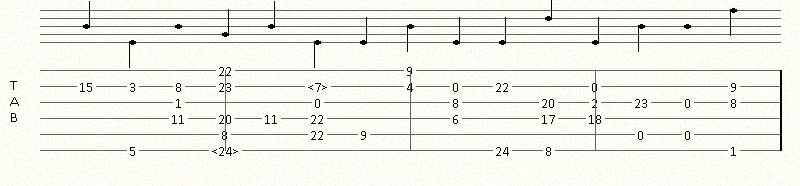0: (314, 96, 325, 109), (452, 80, 463, 93), (591, 80, 602, 93), (637, 128, 648, 141), (684, 128, 695, 141), (684, 96, 695, 109)
1: (175, 96, 186, 109), (730, 144, 741, 157)
11: (171, 112, 189, 125), (264, 112, 282, 125)
15: (79, 80, 97, 93)
17: (541, 112, 559, 125)
18: (588, 112, 606, 125)
2: (591, 96, 602, 109)
20: (218, 112, 236, 125), (541, 96, 559, 109)
22: (218, 64, 236, 77), (310, 128, 328, 141), (310, 112, 328, 125), (495, 80, 513, 93)
23: (218, 80, 236, 93), (634, 96, 652, 109)
24: (495, 144, 513, 157)
3: (129, 80, 140, 93)
4: (406, 80, 417, 93)
5: (129, 144, 140, 157)
6: (452, 112, 463, 125)
8: (175, 80, 186, 93), (221, 128, 232, 141), (452, 96, 463, 109), (545, 144, 556, 157), (730, 96, 741, 109)
9: (360, 128, 371, 141), (406, 64, 417, 77), (730, 80, 741, 93)
harmonic: (211, 144, 243, 157), (307, 80, 332, 93)
